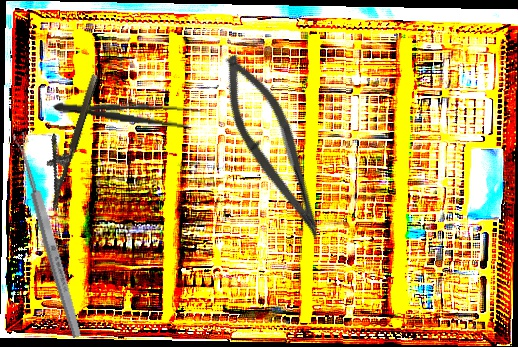Dressing Forceps: (52, 95, 202, 130)
Micro Scissor: (203, 46, 347, 248)
Needle Holder: (30, 68, 101, 212)
Surgical Spoon: (12, 131, 84, 339)
